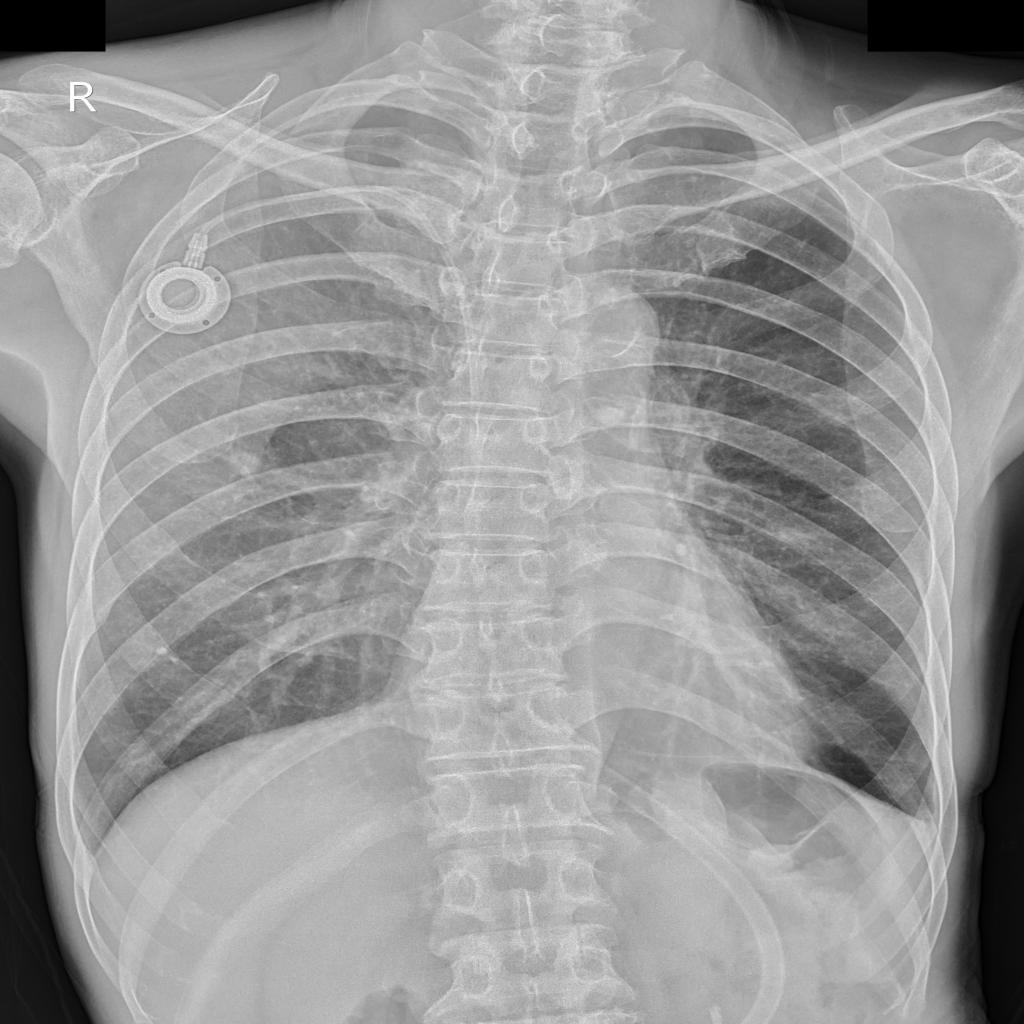Nodule: (223, 453, 264, 478)
